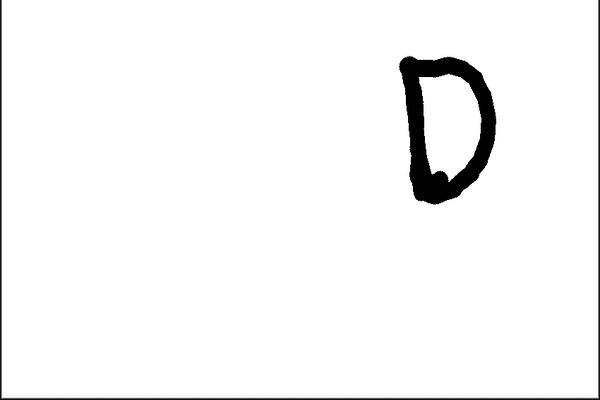D: (392, 48, 508, 208)
